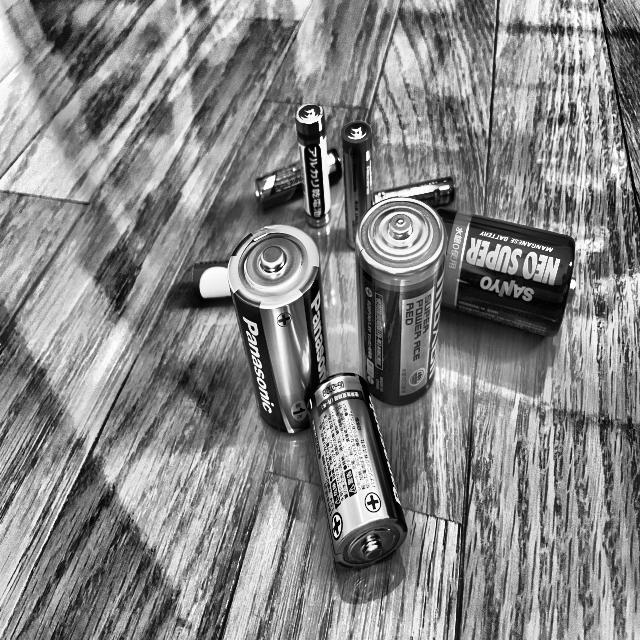drycell: (226, 222, 334, 441), (418, 203, 582, 343), (306, 370, 410, 582), (351, 193, 450, 406), (286, 98, 339, 231), (249, 144, 348, 214), (340, 118, 384, 254), (186, 240, 266, 305), (366, 172, 461, 214)
